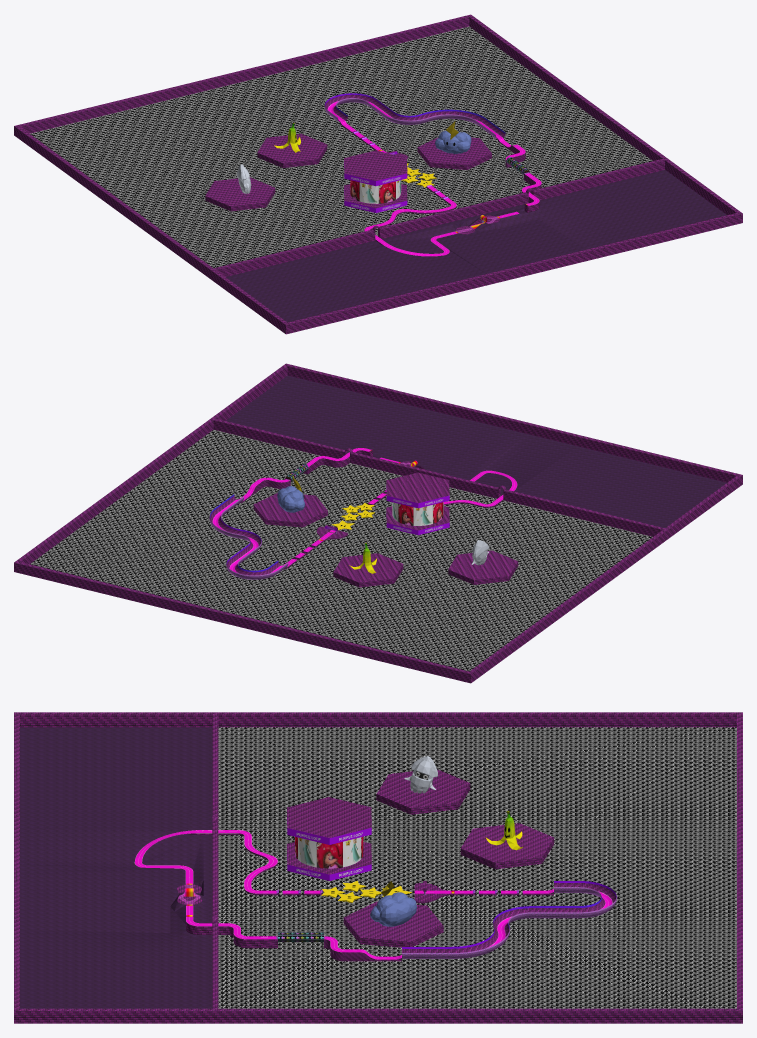
The picture shows the model from 3 angles, top to bottom: view 1: azimuth 30°, elevation 25°; view 2: azimuth 150°, elevation 25°; view 3: azimuth 270°, elevation 25°; orthographic projection. The views are drawn at different scales.
Parts seen in each view (by area): view 1: pl-SKP--water, pl-SKP--brick, pl-SKP--3500, pl-SKP--road, pl-SKP--rosawoomy, pl-SKP--Material2, pl-SKP--pl, pl-SKP--auto; view 2: pl-SKP--water, pl-SKP--brick, pl-SKP--3500, pl-SKP--road, pl-SKP--rosawoomy, pl-SKP--pl, pl-SKP--Material2, pl-SKP--auto; view 3: pl-SKP--water, pl-SKP--3500, pl-SKP--brick, pl-SKP--road, pl-SKP--rosawoomy, pl-SKP--Material2, pl-SKP--pl, pl-SKP--auto, pl-SKP--auto4, pl-SKP--yellow, pl-SKP--blue.
Part boxes in pixels (x1,y1,x2,y2): pl-SKP--water: (30, 26, 652, 268); pl-SKP--brick: (14, 14, 742, 334); pl-SKP--3500: (226, 170, 726, 322); pl-SKP--road: (327, 101, 541, 256); pl-SKP--rosawoomy: (350, 180, 401, 203); pl-SKP--Material2: (324, 98, 529, 173); pl-SKP--pl: (344, 131, 448, 212); pl-SKP--auto: (435, 130, 483, 222); pl-SKP--water: (30, 429, 652, 671); pl-SKP--brick: (14, 363, 742, 683); pl-SKP--3500: (226, 375, 726, 527); pl-SKP--road: (212, 448, 517, 573); pl-SKP--rosawoomy: (392, 502, 443, 525); pl-SKP--pl: (325, 486, 449, 535); pl-SKP--Material2: (209, 496, 336, 579); pl-SKP--auto: (277, 465, 415, 512); pl-SKP--water: (218, 727, 736, 1008); pl-SKP--3500: (20, 727, 212, 1008); pl-SKP--brick: (14, 712, 742, 1023); pl-SKP--road: (134, 830, 612, 959); pl-SKP--rosawoomy: (295, 836, 363, 868); pl-SKP--Material2: (276, 887, 617, 958); pl-SKP--pl: (276, 817, 518, 893); pl-SKP--auto: (370, 892, 416, 926); pl-SKP--auto4: (404, 756, 437, 793); pl-SKP--yellow: (321, 881, 411, 902); pl-SKP--blue: (402, 881, 616, 948).
Size of the model in its own units: 258827 by 20935 by 266829.
Materials: 22 (21 with a texture image).
